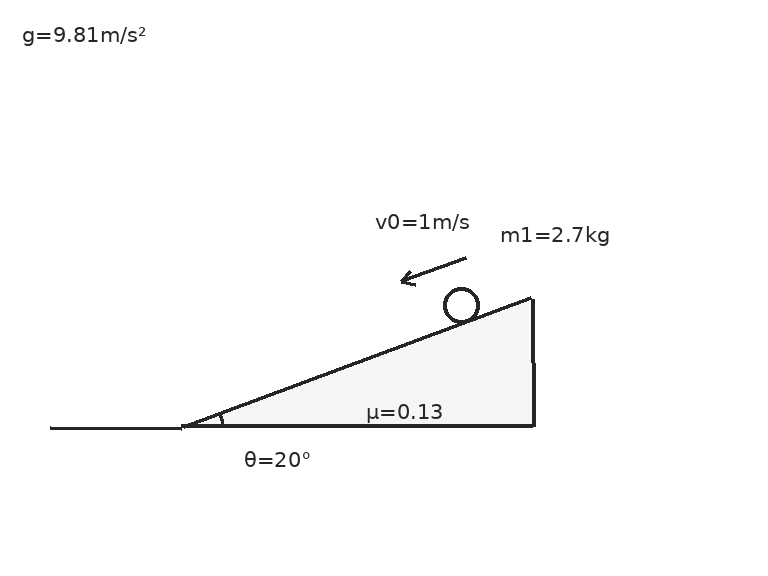ball: (441, 285, 481, 325)
ramp: (180, 297, 534, 428)
